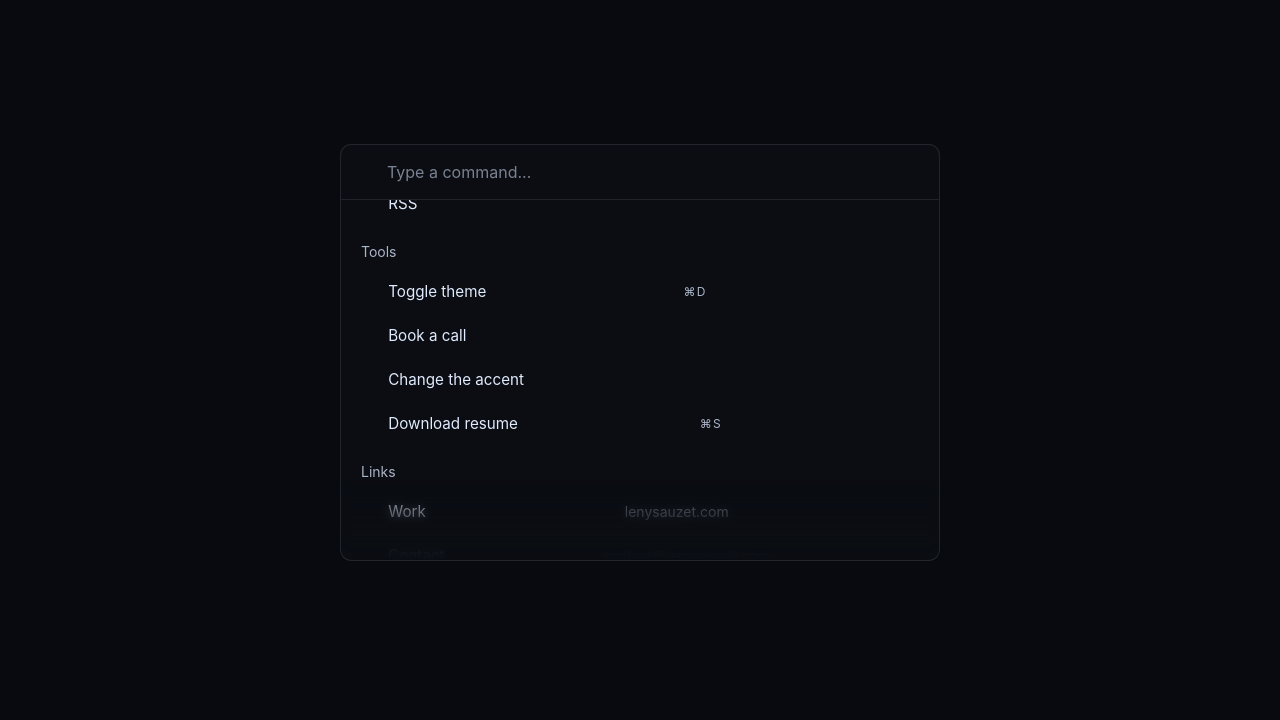
Test: CommandPalette › opens the accent page, with the one in force marked
The width and height of the screenshot is (1280, 720).
(page scrolled)
Click the option "Change the accent": (456, 380) [388,370,524,389]
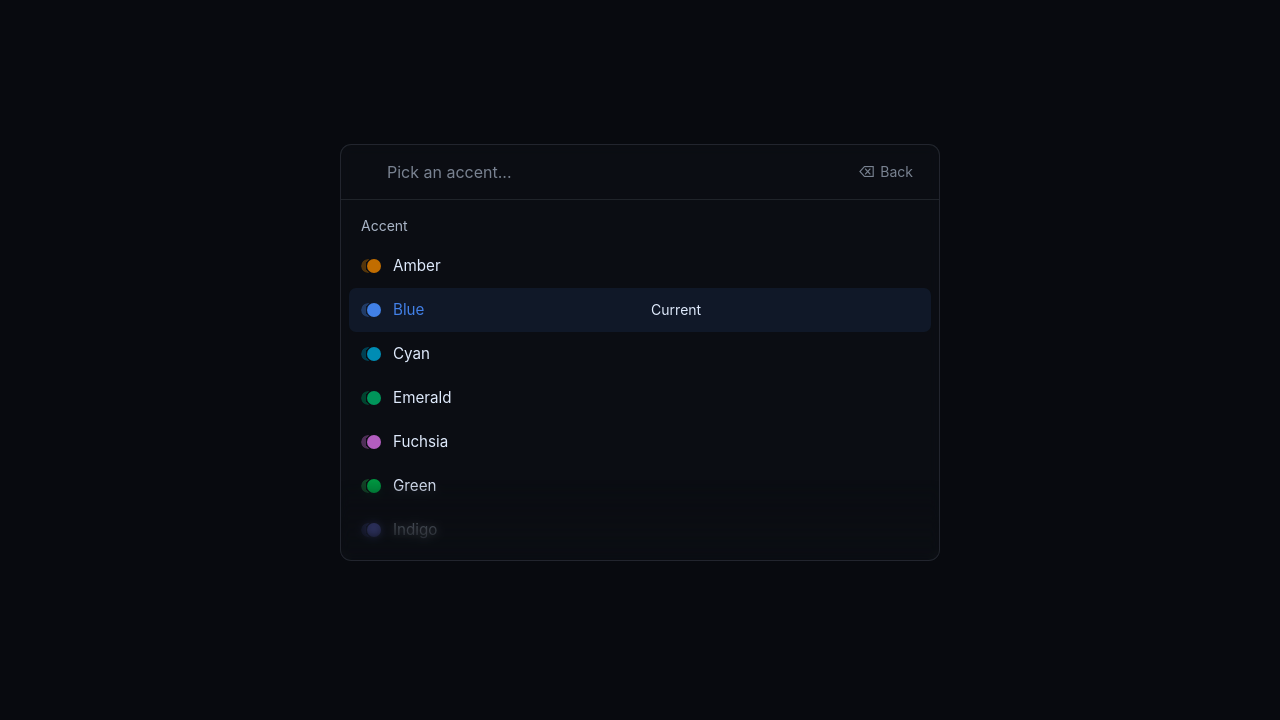
Expected: the dropdown with placeholder "Pick an accent..." is shown, [387,160,838,184]
Expected: the option "Amber" is shown, [361,256,441,275]
Expected: the option "Cyan" is shown, [361,344,430,363]
